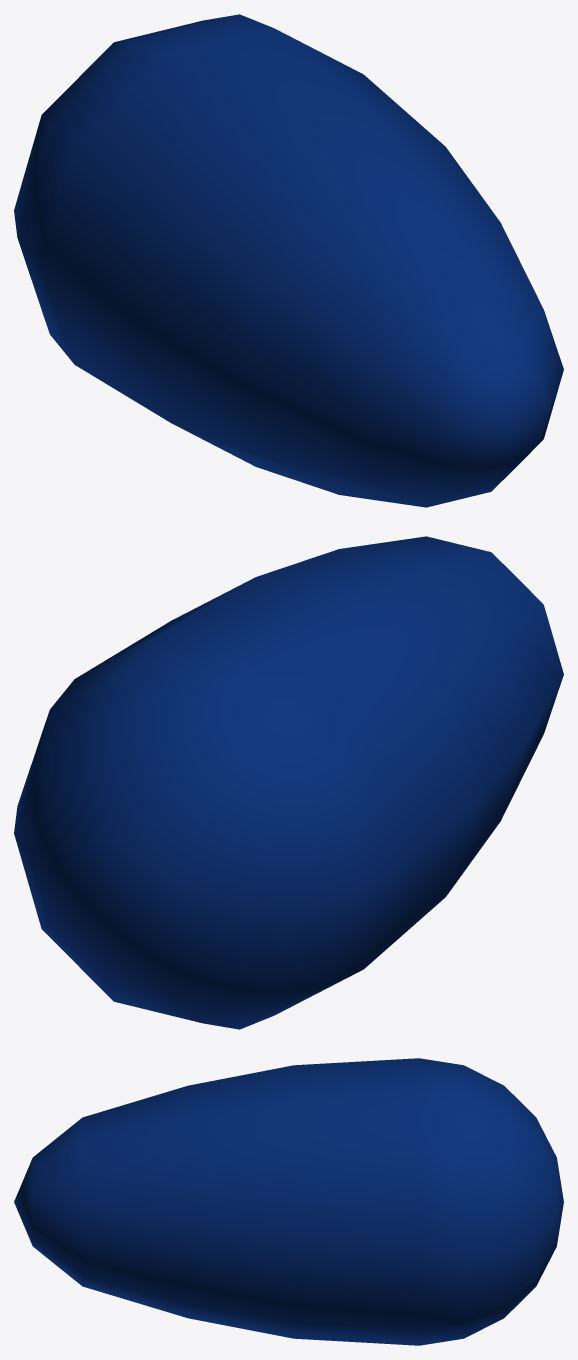
File: alpha_bullet.fbx
3 views of the same model, one above another, from view 1: azimuth 30°, elevation 25°; view 2: azimuth 150°, elevation 25°; view 3: azimuth 270°, elevation 25° (orthographic). The views are drawn at different scales.
Visible parts, largest first — view 1: Bullet; view 2: Bullet; view 3: Bullet.
Part boxes in pixels (left/top/right/bottom): Bullet: left=14, top=14, right=563, bottom=507; Bullet: left=14, top=536, right=563, bottom=1029; Bullet: left=14, top=1058, right=563, bottom=1345.
Size of the model in its own units: 18.68 by 17.76 by 35.46.
